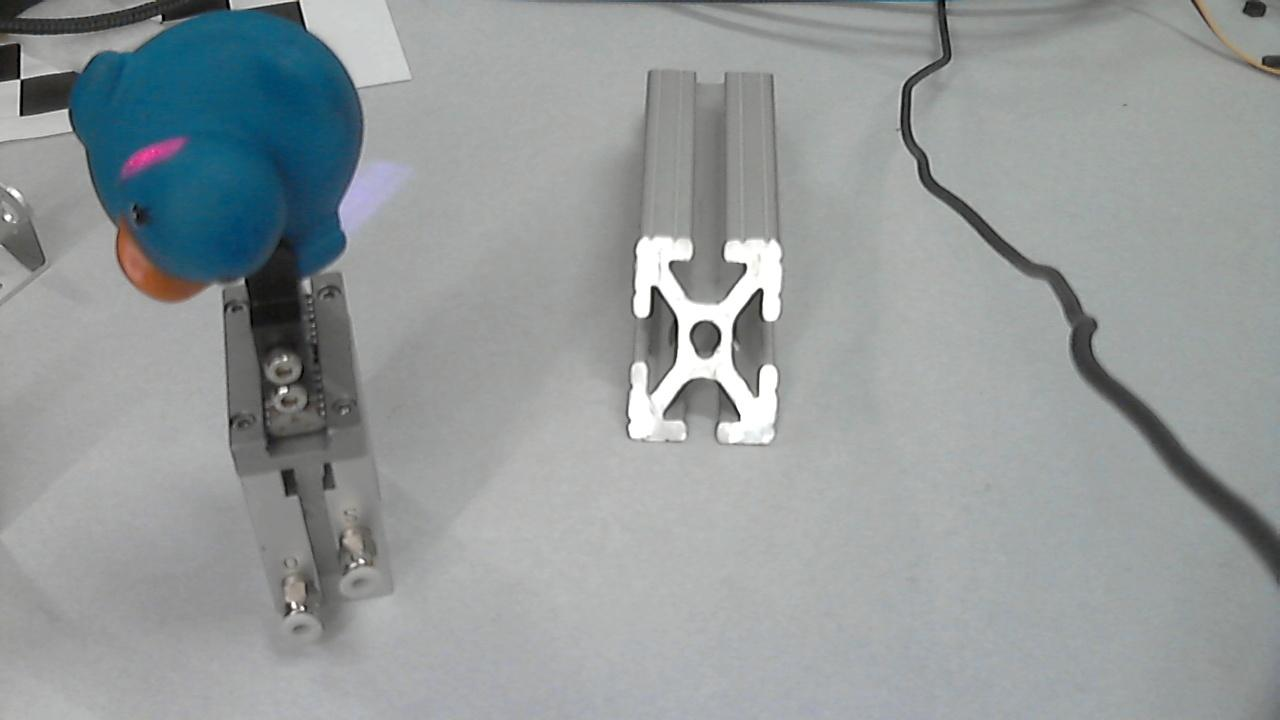Object scissors - Material metal - Pdfname tYexGlkiIXWc: (103, 133, 208, 187)
